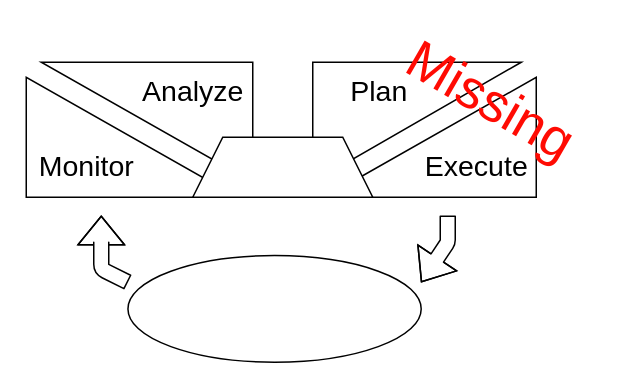
Some shapes in this 638 by 389 pixel diagram are drawn without their labels. Each missing label, with the box of its shape:
Knowledge: (191, 136, 373, 197)
Managed Object: (126, 254, 421, 362)
